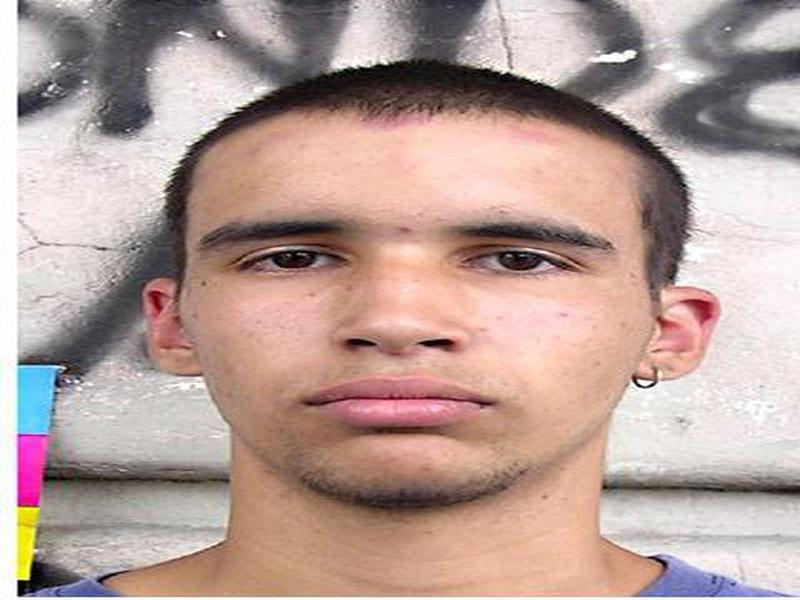without_mask: (185, 123, 663, 516)
